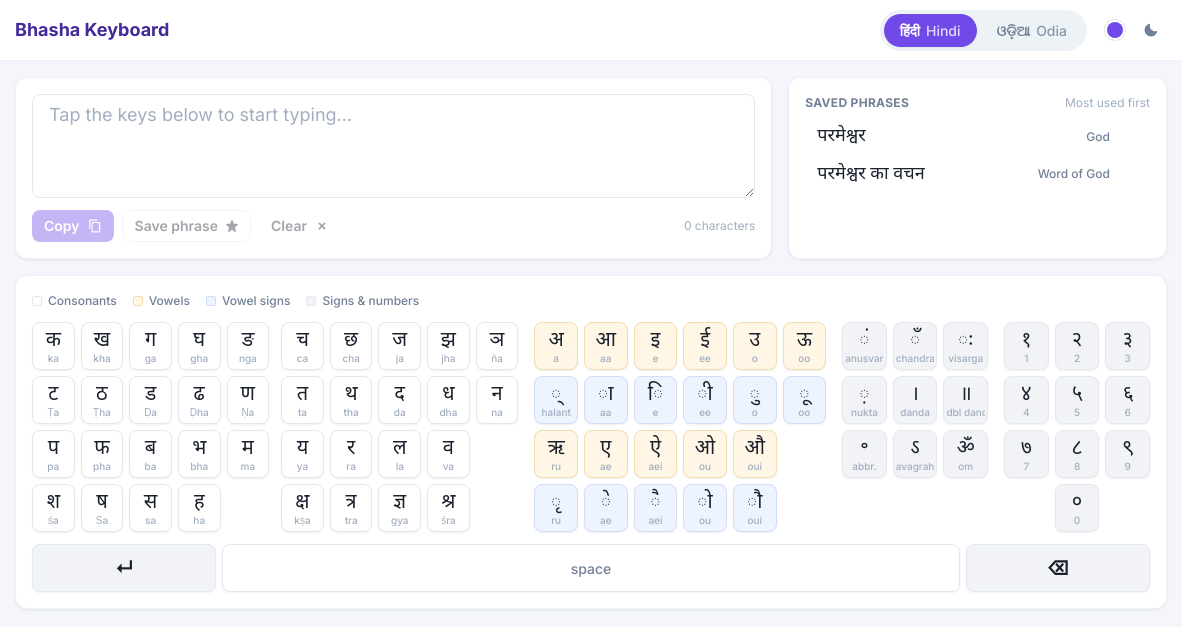
Test: builds syllables from consonants and matras, and backspace removes one sign
Click the button with aria-label "क, ka". click: (53, 346)
box: [32,322,75,370]
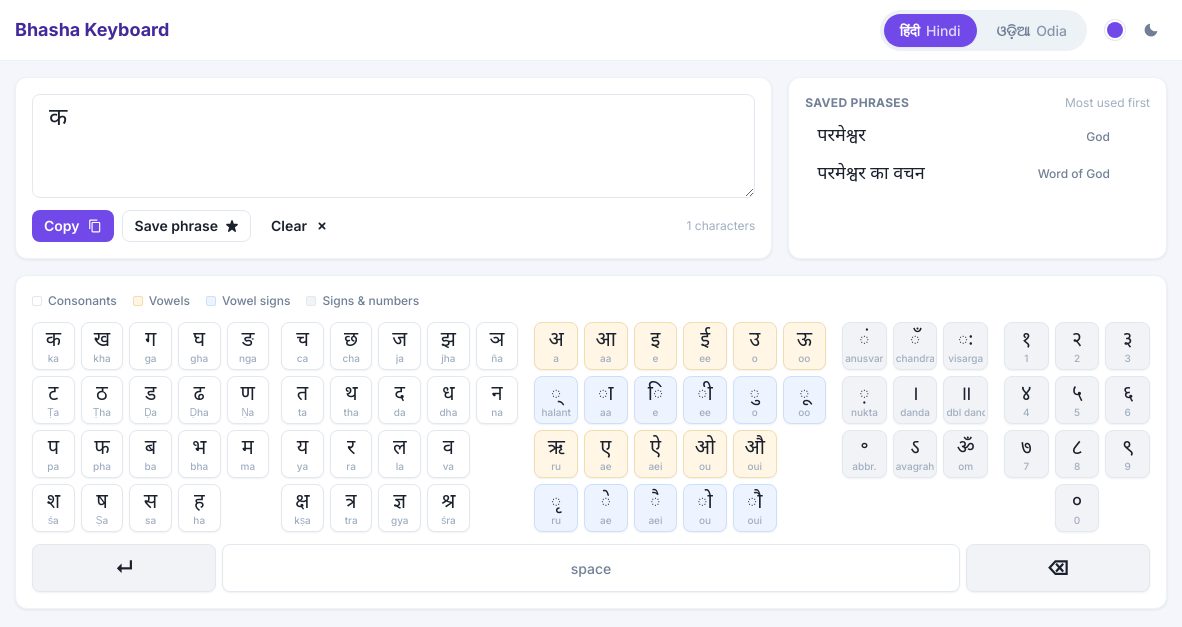
Click the button named "ि, e". click: (655, 400)
box: [634,376,677,424]
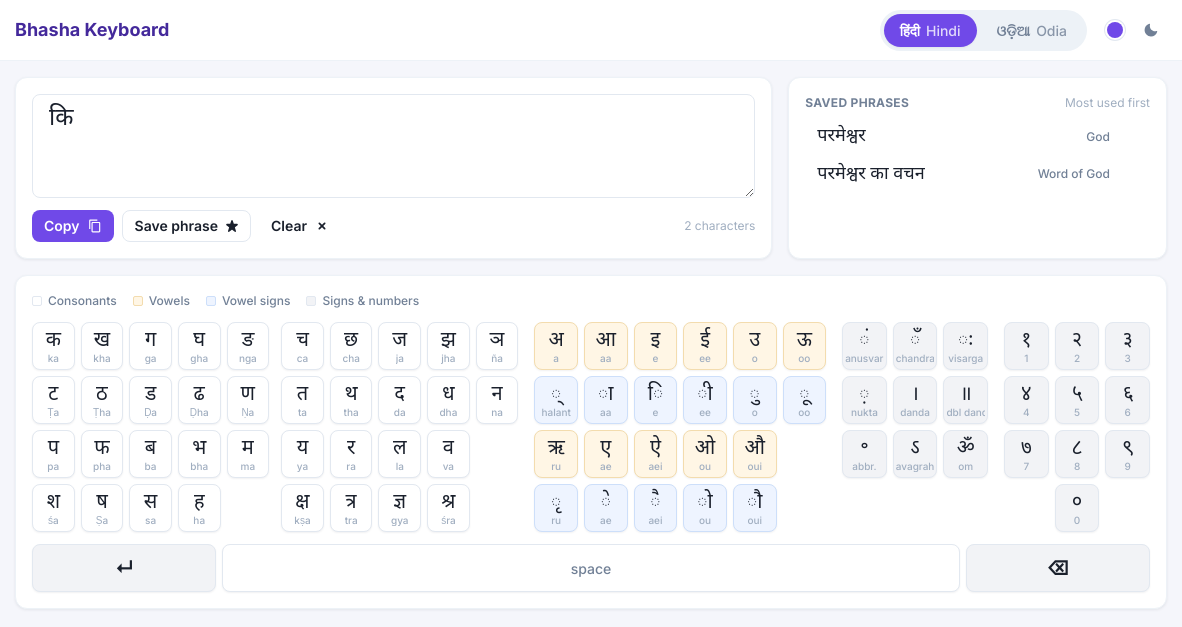
Click the button "space". click: (591, 568)
box: [222,544,960,592]
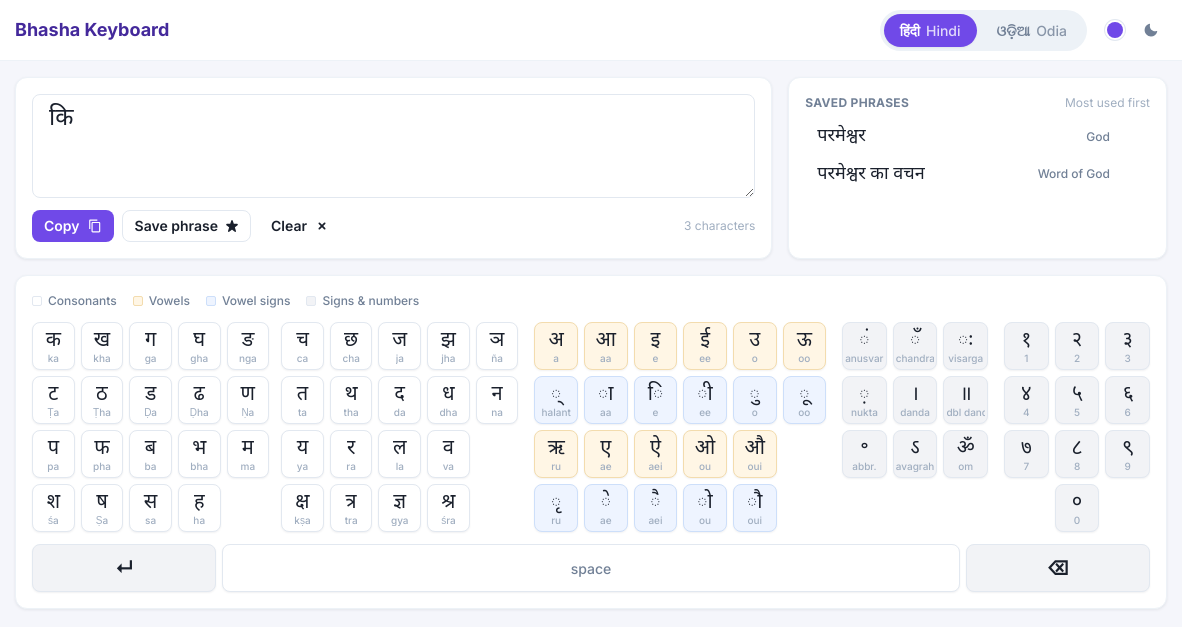
Click the button with aria-label "म, ma". click: (248, 454)
box: [226,430,269,478]
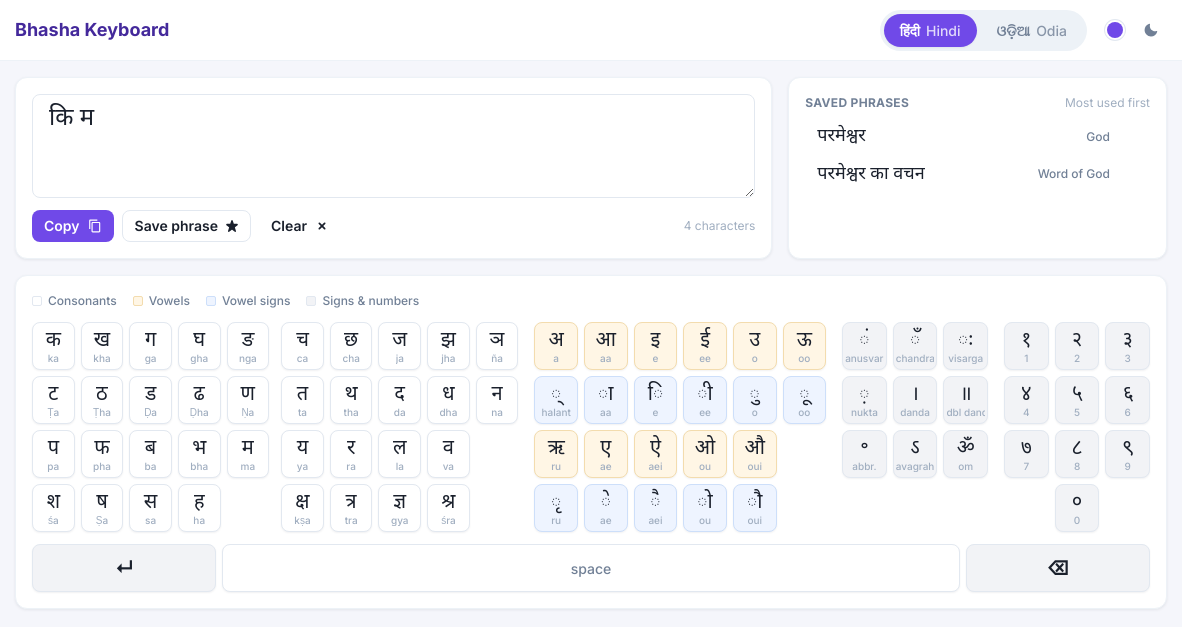
Result: the text box named "Hindi text" holds "कि म" at [32,94,755,198]
Click the button named "Backspace". click: (1058, 568)
box: [966,544,1150,592]
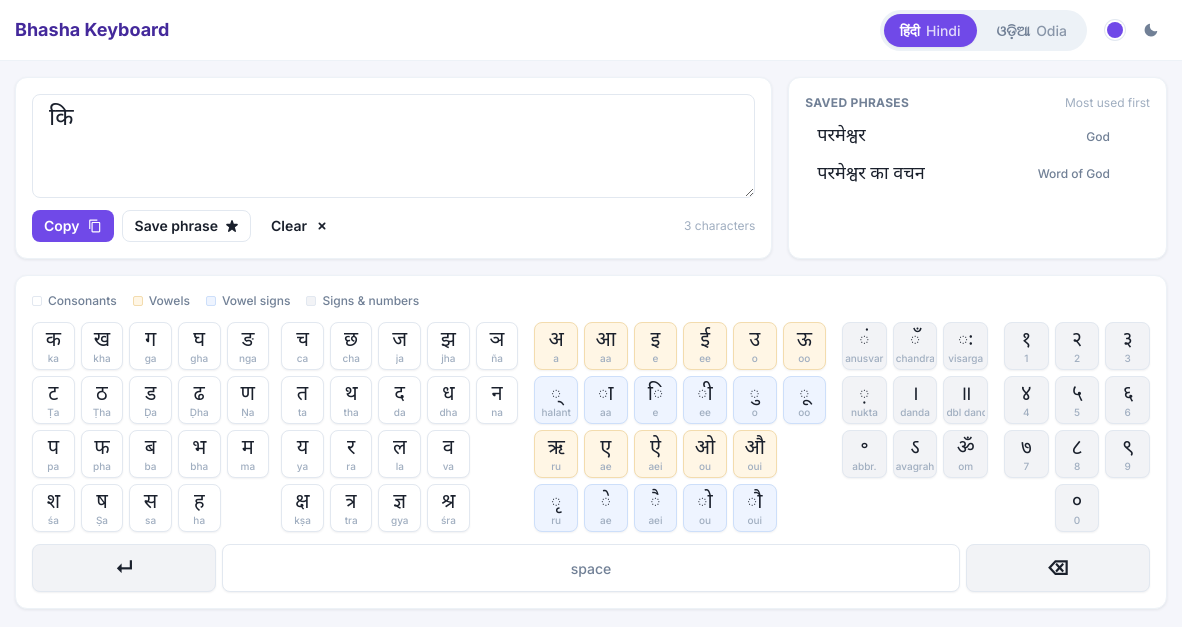
Result: the text box named "Hindi text" holds "कि " at [32,94,755,198]
